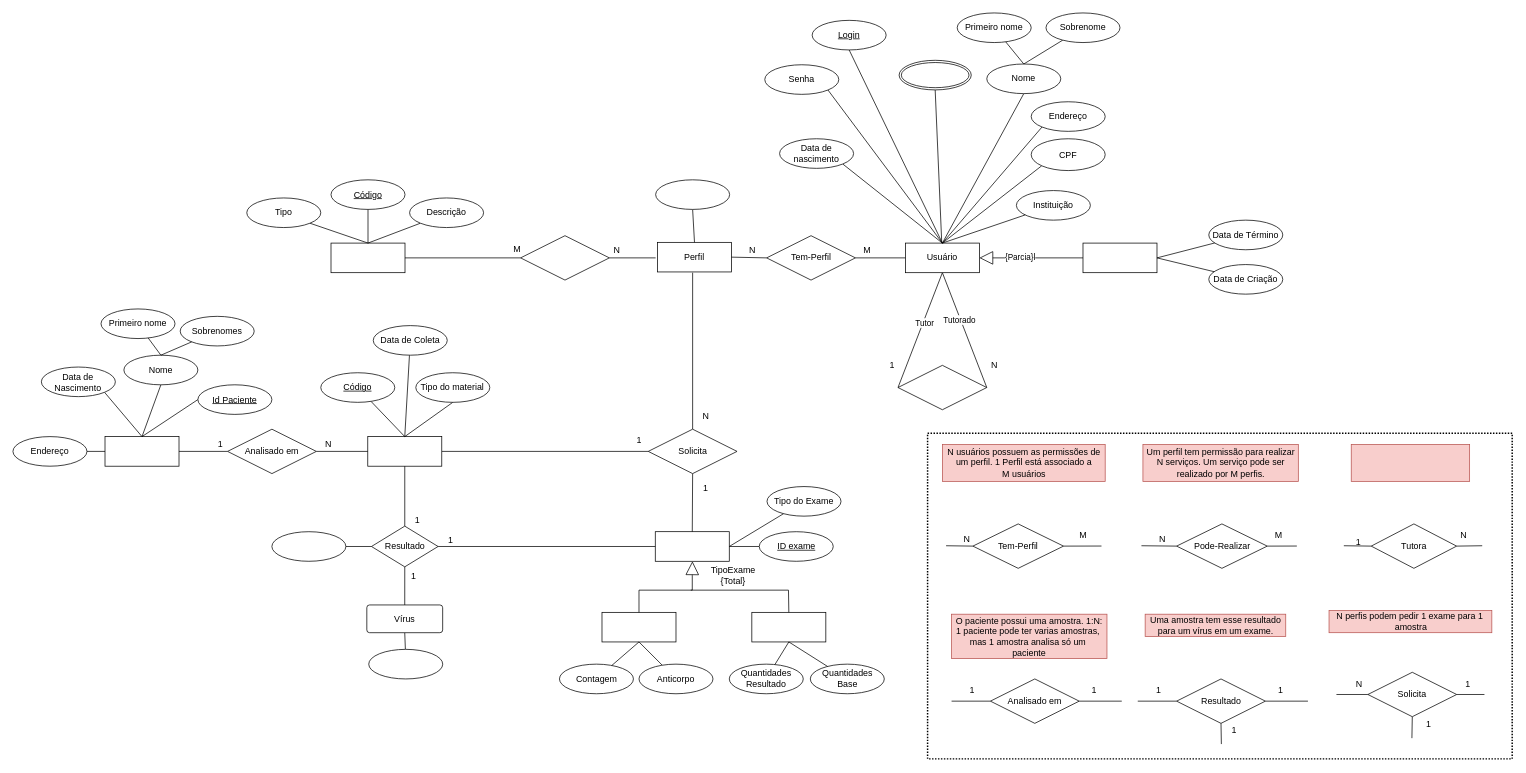
This 1526x773 diagram has some shape labels left out. The shapes that lost their labels are listed below. From the top down, each one's centre as x and y in pixels, then its label:
the point at 934,75: Área de pesquisa
the point at 692,194: NomePerfil
the point at 367,257: Serviço
the point at 564,257: Pode Realizar
the point at 1119,257: Eventual
the point at 942,387: Tutoria
the point at 141,451: Paciente
the point at 404,451: Amostra
the point at 1410,462: Um usuário pode tutorar n usuários e ser tutorado por um tutorando
the point at 308,546: Positivo
the point at 692,546: Exame
the point at 638,627: AntiCorpos
the point at 788,627: PCR
the point at 405,664: Nome científico
